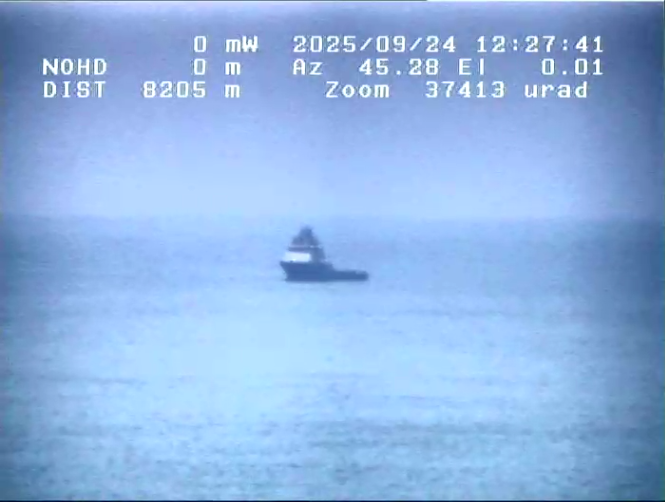OFFSHORE_SUPPLY_VESSEL: (268, 207, 378, 297)
